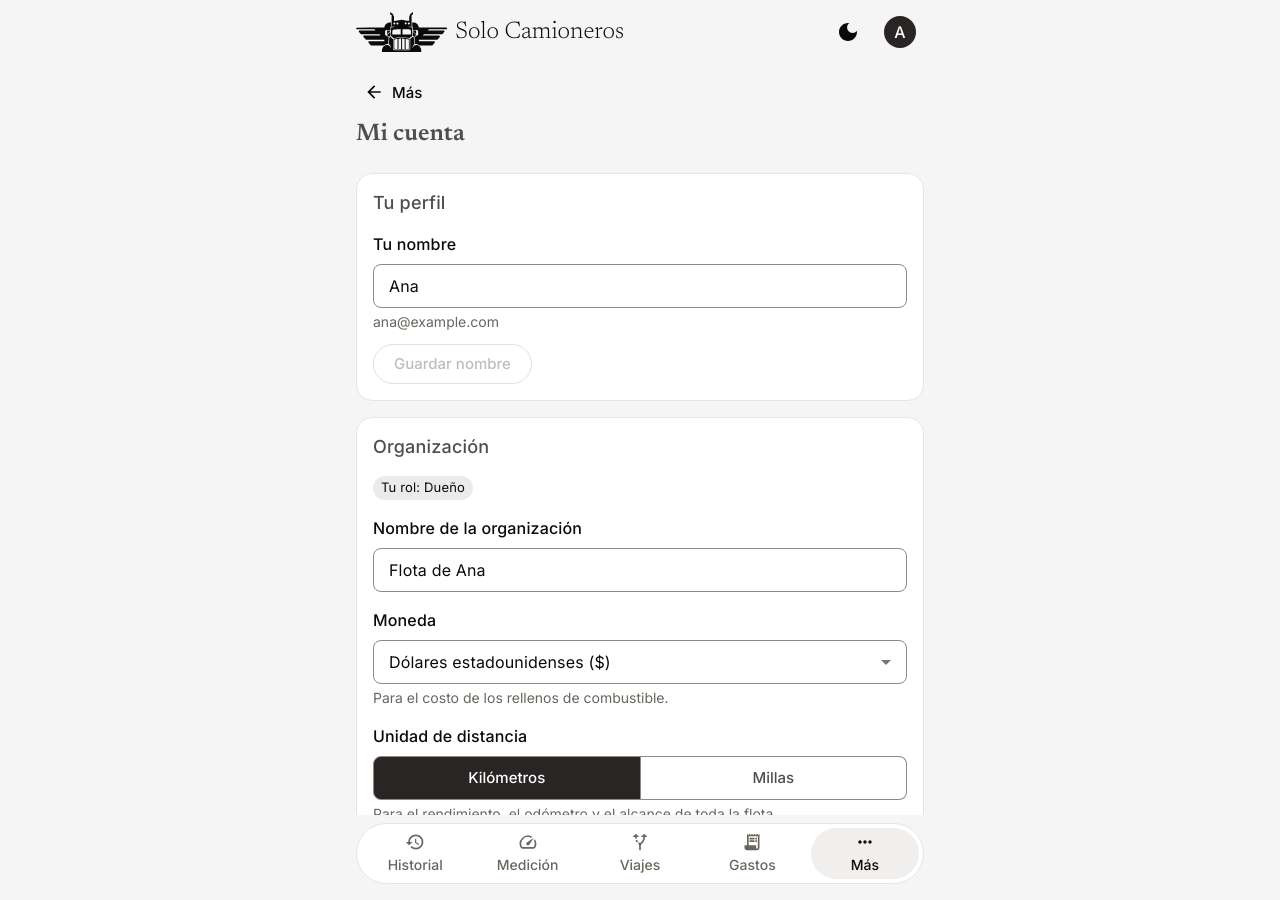
the app bar shows the account menu with a session (RF-6)
This screenshot has width=1280, height=900.
Click the button named "Tu cuenta: Ana" at (900, 32), box [876, 8, 924, 56]
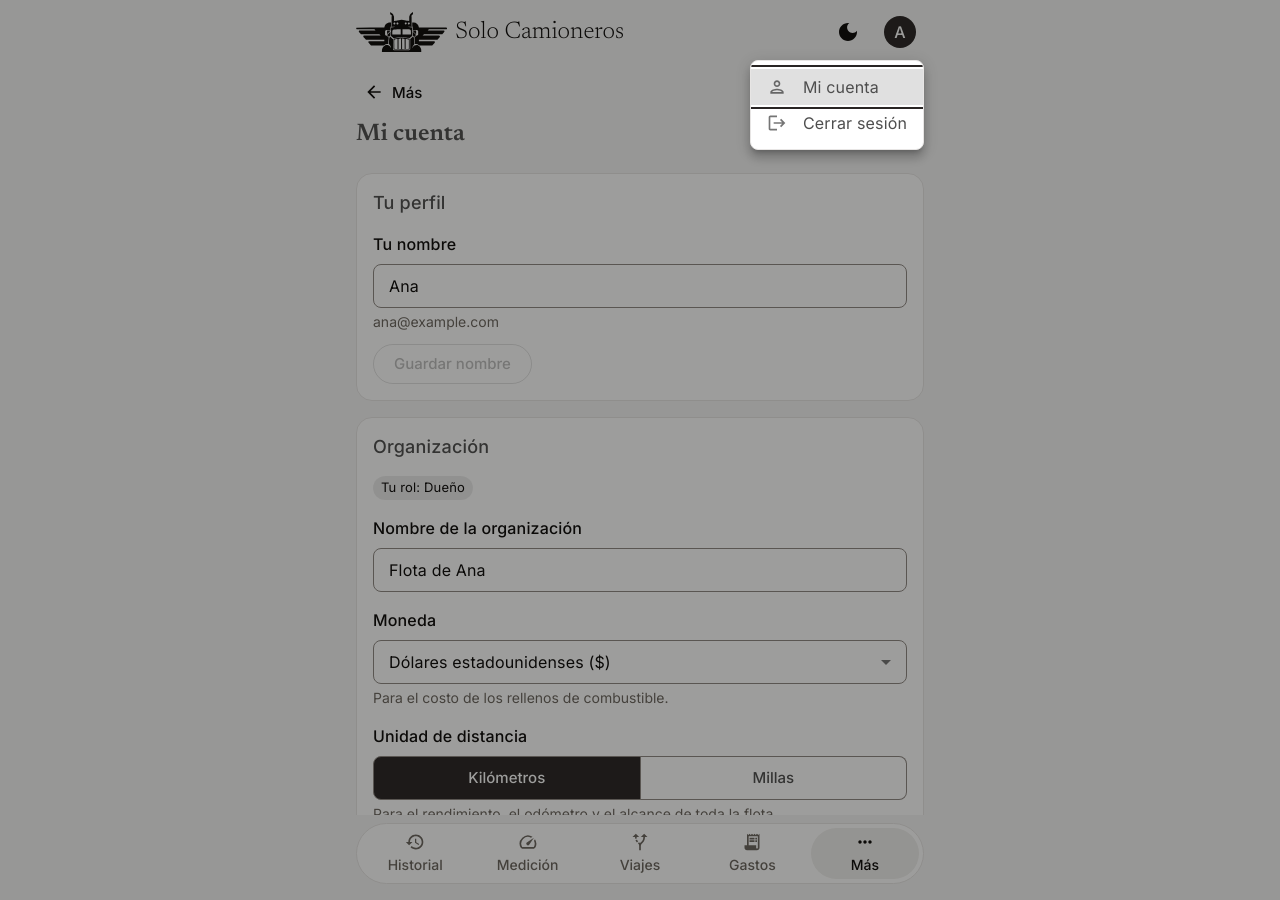
Expected: the menu item "Mi cuenta" is shown, [751, 69, 923, 105]
Expected: the menu item "Cerrar sesión" is shown, [767, 113, 907, 133]
